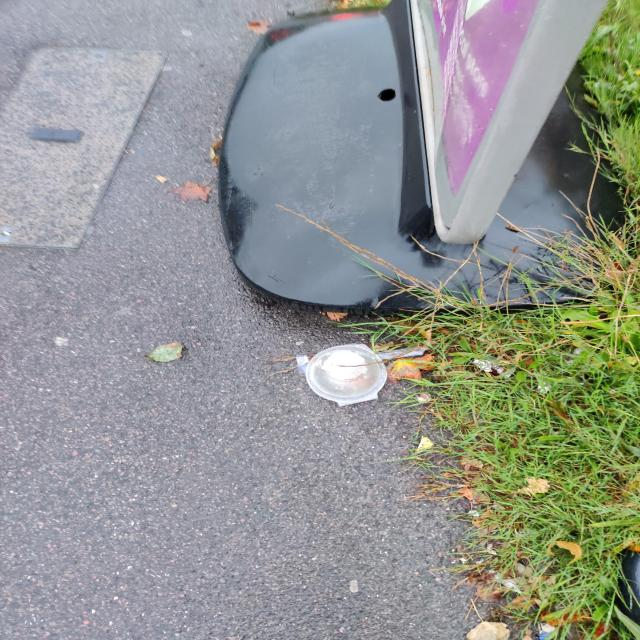litter: (0, 43, 180, 252), (294, 342, 432, 408)
